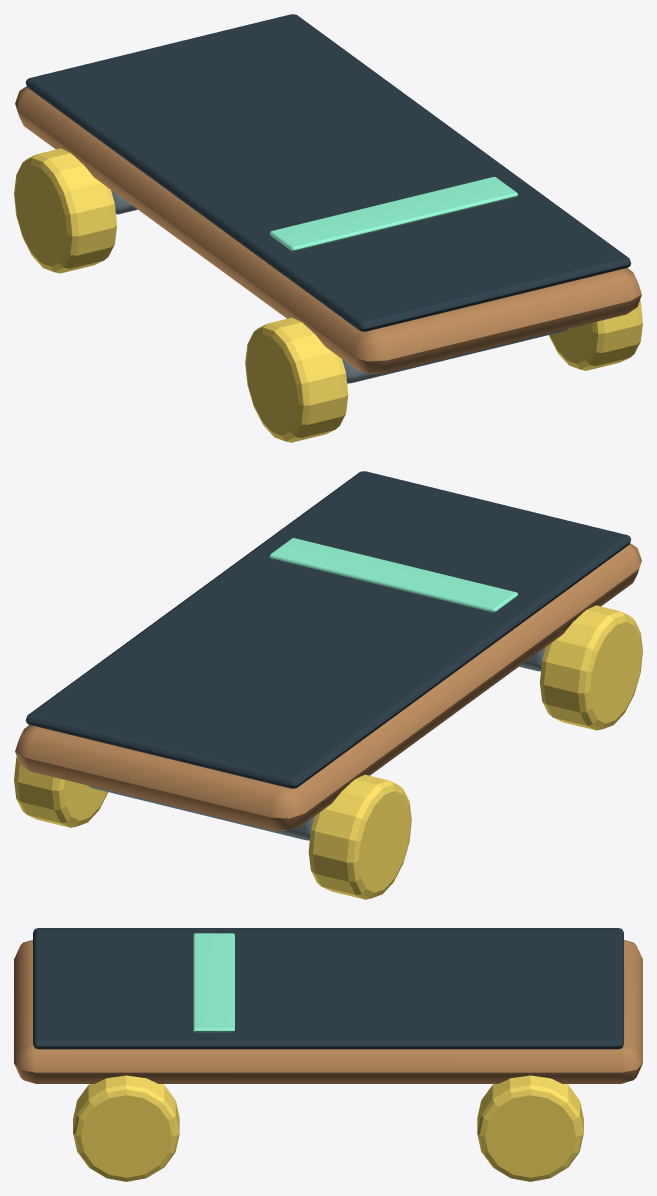
The model's file is skateboard.glb.
3 views of the same model, one above another, from view 1: azimuth 30°, elevation 25°; view 2: azimuth 150°, elevation 25°; view 3: azimuth 270°, elevation 25° (orthographic). The views are drawn at different scales.
Parts seen in each view (by area): view 1: Grip tape, Maple deck, Soft urethane wheel.002, Soft urethane wheel, Deck signature, Soft urethane wheel.001, Truck hanger; view 2: Grip tape, Maple deck, Soft urethane wheel, Soft urethane wheel.002, Deck signature, Soft urethane wheel.003, Truck hanger.001; view 3: Grip tape, Maple deck, Soft urethane wheel.001, Soft urethane wheel.003, Deck signature.
Boxes of the visible parts, left/top/right/bottom form: Grip tape: left=25, top=14, right=631, bottom=331; Maple deck: left=15, top=86, right=641, bottom=373; Soft urethane wheel.002: left=14, top=148, right=116, bottom=273; Soft urethane wheel: left=245, top=317, right=348, bottom=442; Deck signature: left=269, top=177, right=517, bottom=251; Soft urethane wheel.001: left=548, top=267, right=642, bottom=370; Truck hanger: left=342, top=328, right=569, bottom=383; Grip tape: left=25, top=471, right=631, bottom=788; Maple deck: left=15, top=543, right=641, bottom=830; Soft urethane wheel: left=540, top=605, right=642, bottom=730; Soft urethane wheel.002: left=308, top=774, right=411, bottom=899; Deck signature: left=269, top=538, right=517, bottom=612; Soft urethane wheel.003: left=14, top=724, right=108, bottom=827; Truck hanger.001: left=87, top=785, right=314, bottom=840; Grip tape: left=33, top=928, right=623, bottom=1049; Maple deck: left=14, top=940, right=642, bottom=1083; Soft urethane wheel.001: left=73, top=1075, right=179, bottom=1181; Soft urethane wheel.003: left=477, top=1075, right=583, bottom=1181; Deck signature: left=193, top=933, right=234, bottom=1032.
Size of the model in its own units: 0.91 by 0.379 by 1.65.
